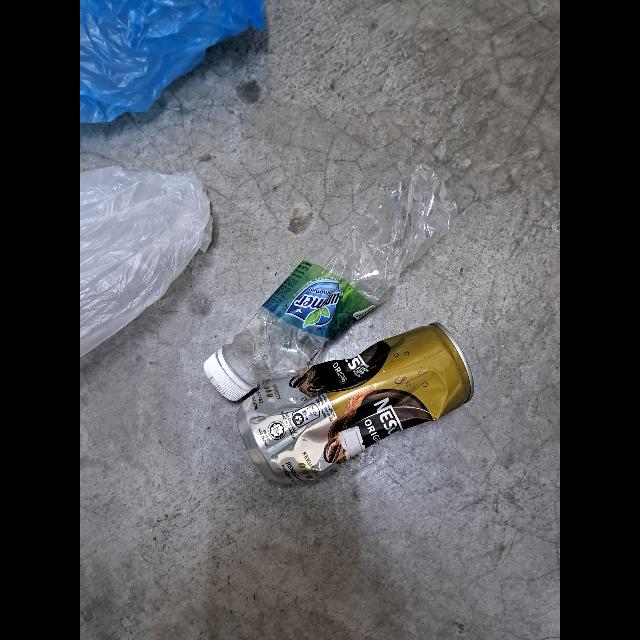garrafa plástica: (225, 161, 457, 383)
lata: (236, 321, 472, 485)
sacola plástica: (80, 166, 212, 356), (80, 0, 270, 126)
tampa plástica: (203, 353, 250, 405)
